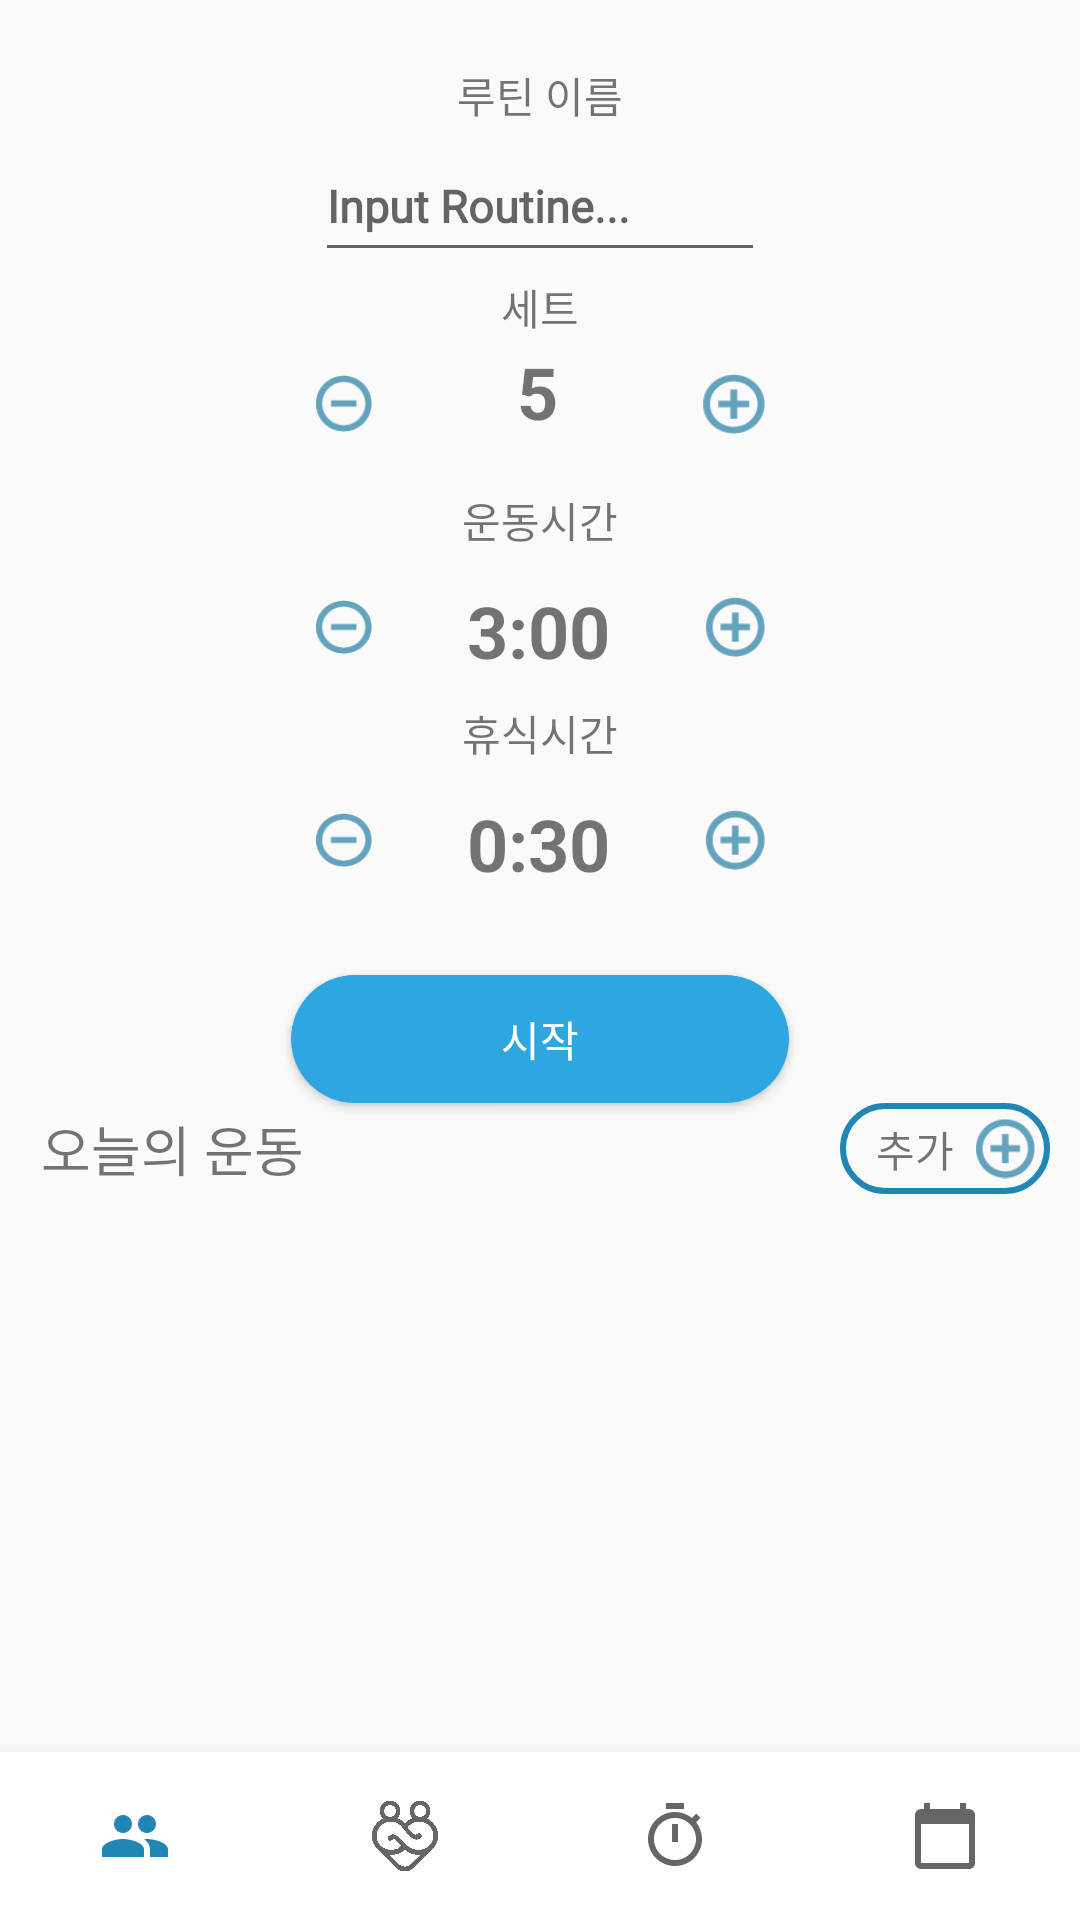

Point at icon controls on the screen. Image size 1080 × 1920, points as point (x, y).
misnus: point (344, 403), point (344, 627), point (344, 840)
plus: point (734, 404), point (735, 627), point (735, 840), point (1005, 1149)
